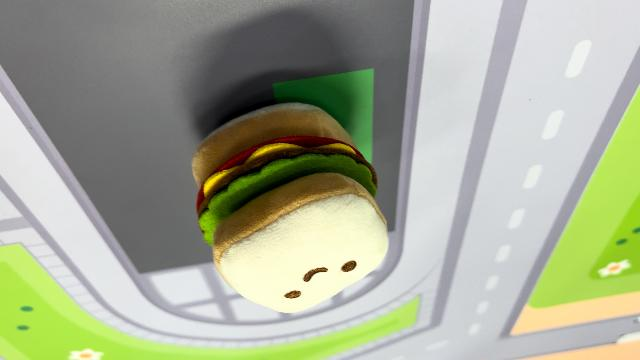sandwich: (188, 98, 392, 314)
